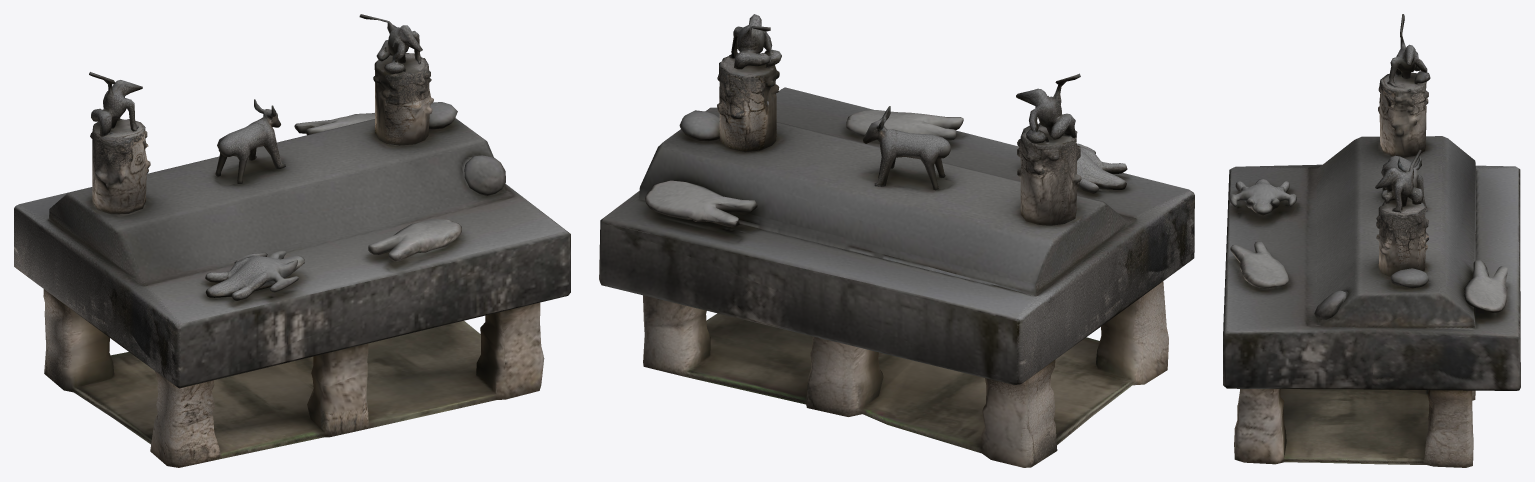
Rendered from hubungannya-dengan-peninggalan-megalitik.glb.
3 views of the same model, side by side, from view 1: azimuth 30°, elevation 25°; view 2: azimuth 150°, elevation 25°; view 3: azimuth 270°, elevation 25° (orthographic). The views are drawn at different scales.
Parts seen in each view (by area): view 1: tripo_node_8661eae9-60a0-4a99-b5f2-436967231e88; view 2: tripo_node_8661eae9-60a0-4a99-b5f2-436967231e88; view 3: tripo_node_8661eae9-60a0-4a99-b5f2-436967231e88.
Boxes of the visible parts, x1,y1,x2,y2 form: tripo_node_8661eae9-60a0-4a99-b5f2-436967231e88: (14, 14, 570, 467); tripo_node_8661eae9-60a0-4a99-b5f2-436967231e88: (599, 14, 1194, 467); tripo_node_8661eae9-60a0-4a99-b5f2-436967231e88: (1223, 14, 1520, 467).
Bounding box in the file's own units: 0.998 × 0.8066 × 0.7402.
1 material, 1 textured.
